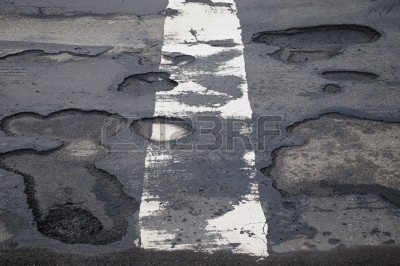pothole: (129, 109, 193, 150)
